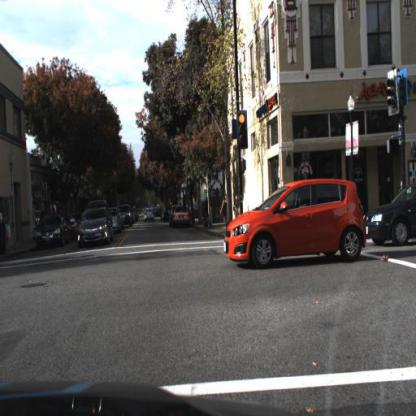car: (222, 178, 367, 273), (364, 176, 416, 249), (78, 208, 113, 247), (38, 216, 70, 248), (172, 207, 192, 230), (112, 207, 125, 235), (122, 203, 135, 230), (143, 205, 157, 225)
pedestrian: (406, 167, 416, 230)
trafficLight: (237, 111, 249, 152)
